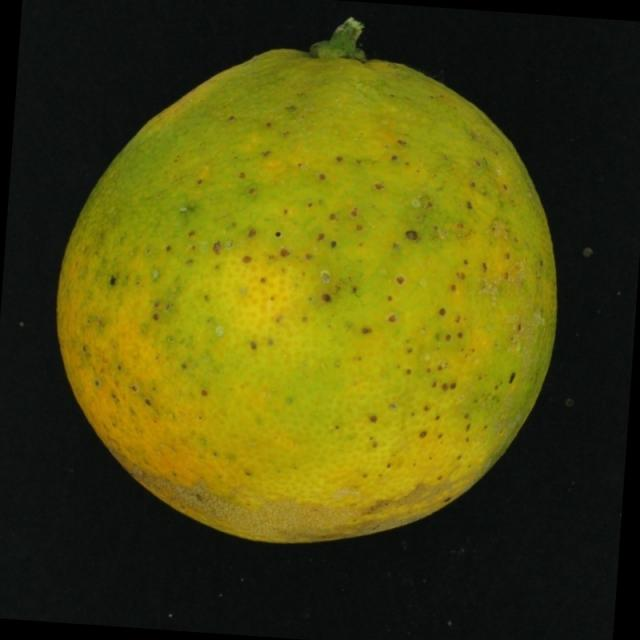grenning: (36, 16, 587, 571)
